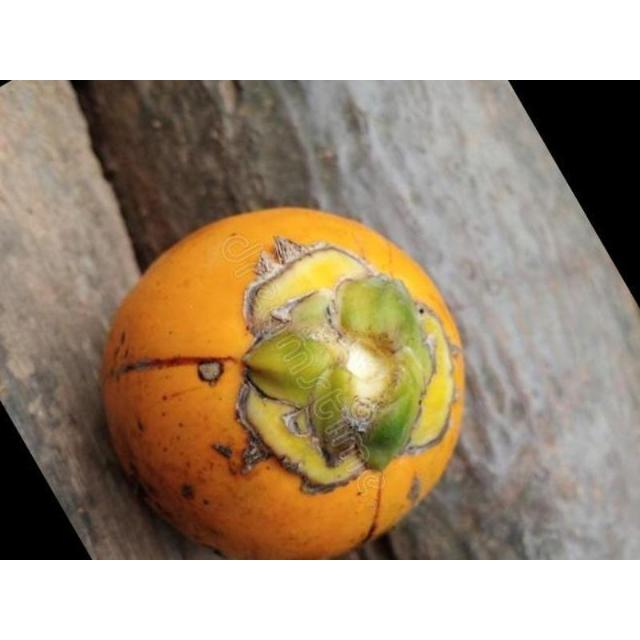good: (98, 206, 470, 559)
